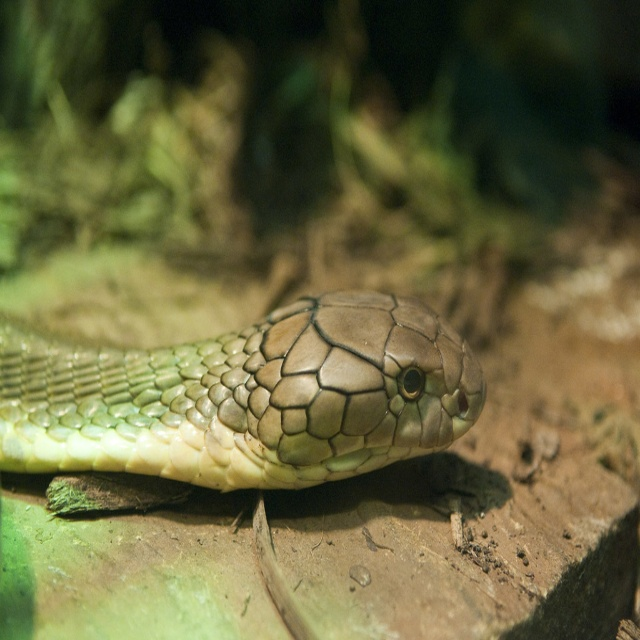Snake: (0, 287, 490, 496)
